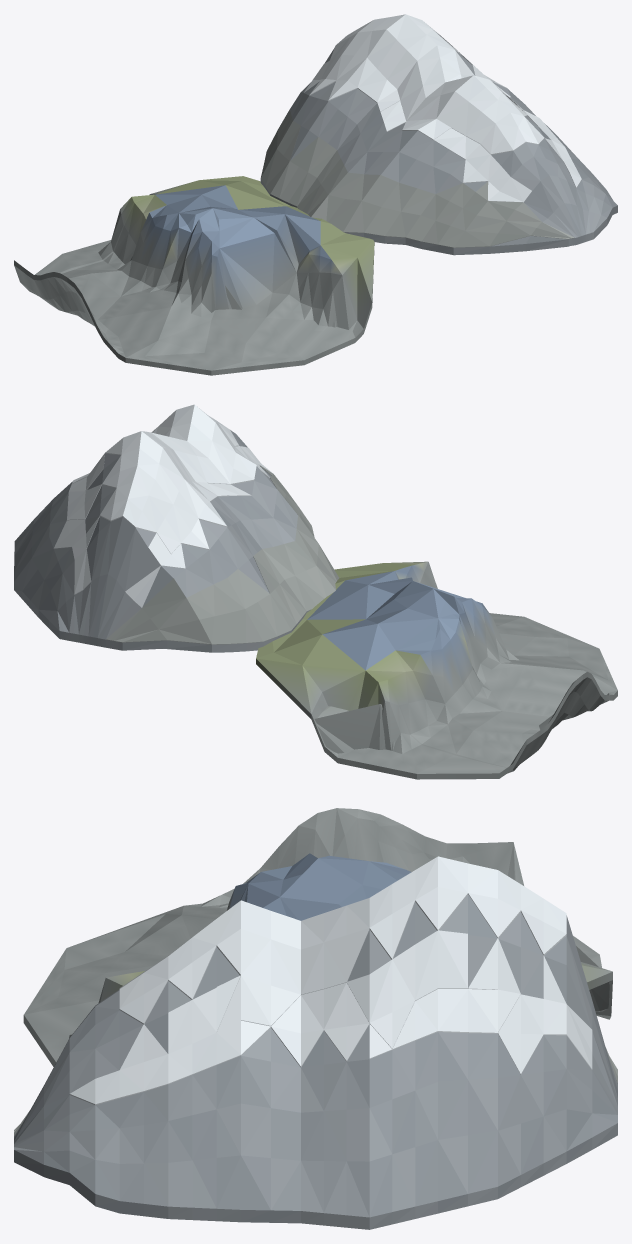
Rendered from massif_east_foothill_rim53.glb.
3 views of the same model, one above another, from view 1: azimuth 30°, elevation 25°; view 2: azimuth 150°, elevation 25°; view 3: azimuth 270°, elevation 25° (orthographic). The views are drawn at different scales.
Parts seen in each view (by area): view 1: rock_body, ridge_shoulders, shore_rock_apron, snow_cap, snow_gully; view 2: rock_body, ridge_shoulders, snow_cap, shore_rock_apron, snow_gully; view 3: ridge_shoulders, snow_cap, rock_body, snow_gully.
Part boxes in pixels (bbox=[...]): rock_body: bbox=[14, 176, 374, 375]; ridge_shoulders: bbox=[260, 48, 617, 255]; shore_rock_apron: bbox=[260, 92, 574, 247]; snow_cap: bbox=[309, 14, 544, 154]; snow_gully: bbox=[304, 61, 581, 202]; rock_body: bbox=[256, 561, 617, 779]; ridge_shoulders: bbox=[14, 430, 309, 652]; snow_cap: bbox=[67, 404, 256, 553]; shore_rock_apron: bbox=[106, 465, 339, 644]; snow_gully: bbox=[53, 446, 273, 607]; ridge_shoulders: bbox=[14, 894, 617, 1229]; snow_cap: bbox=[119, 856, 566, 1048]; rock_body: bbox=[23, 808, 612, 1066]; snow_gully: bbox=[69, 955, 592, 1105].
Size of the model in its own units: 1154 by 453 by 705.
